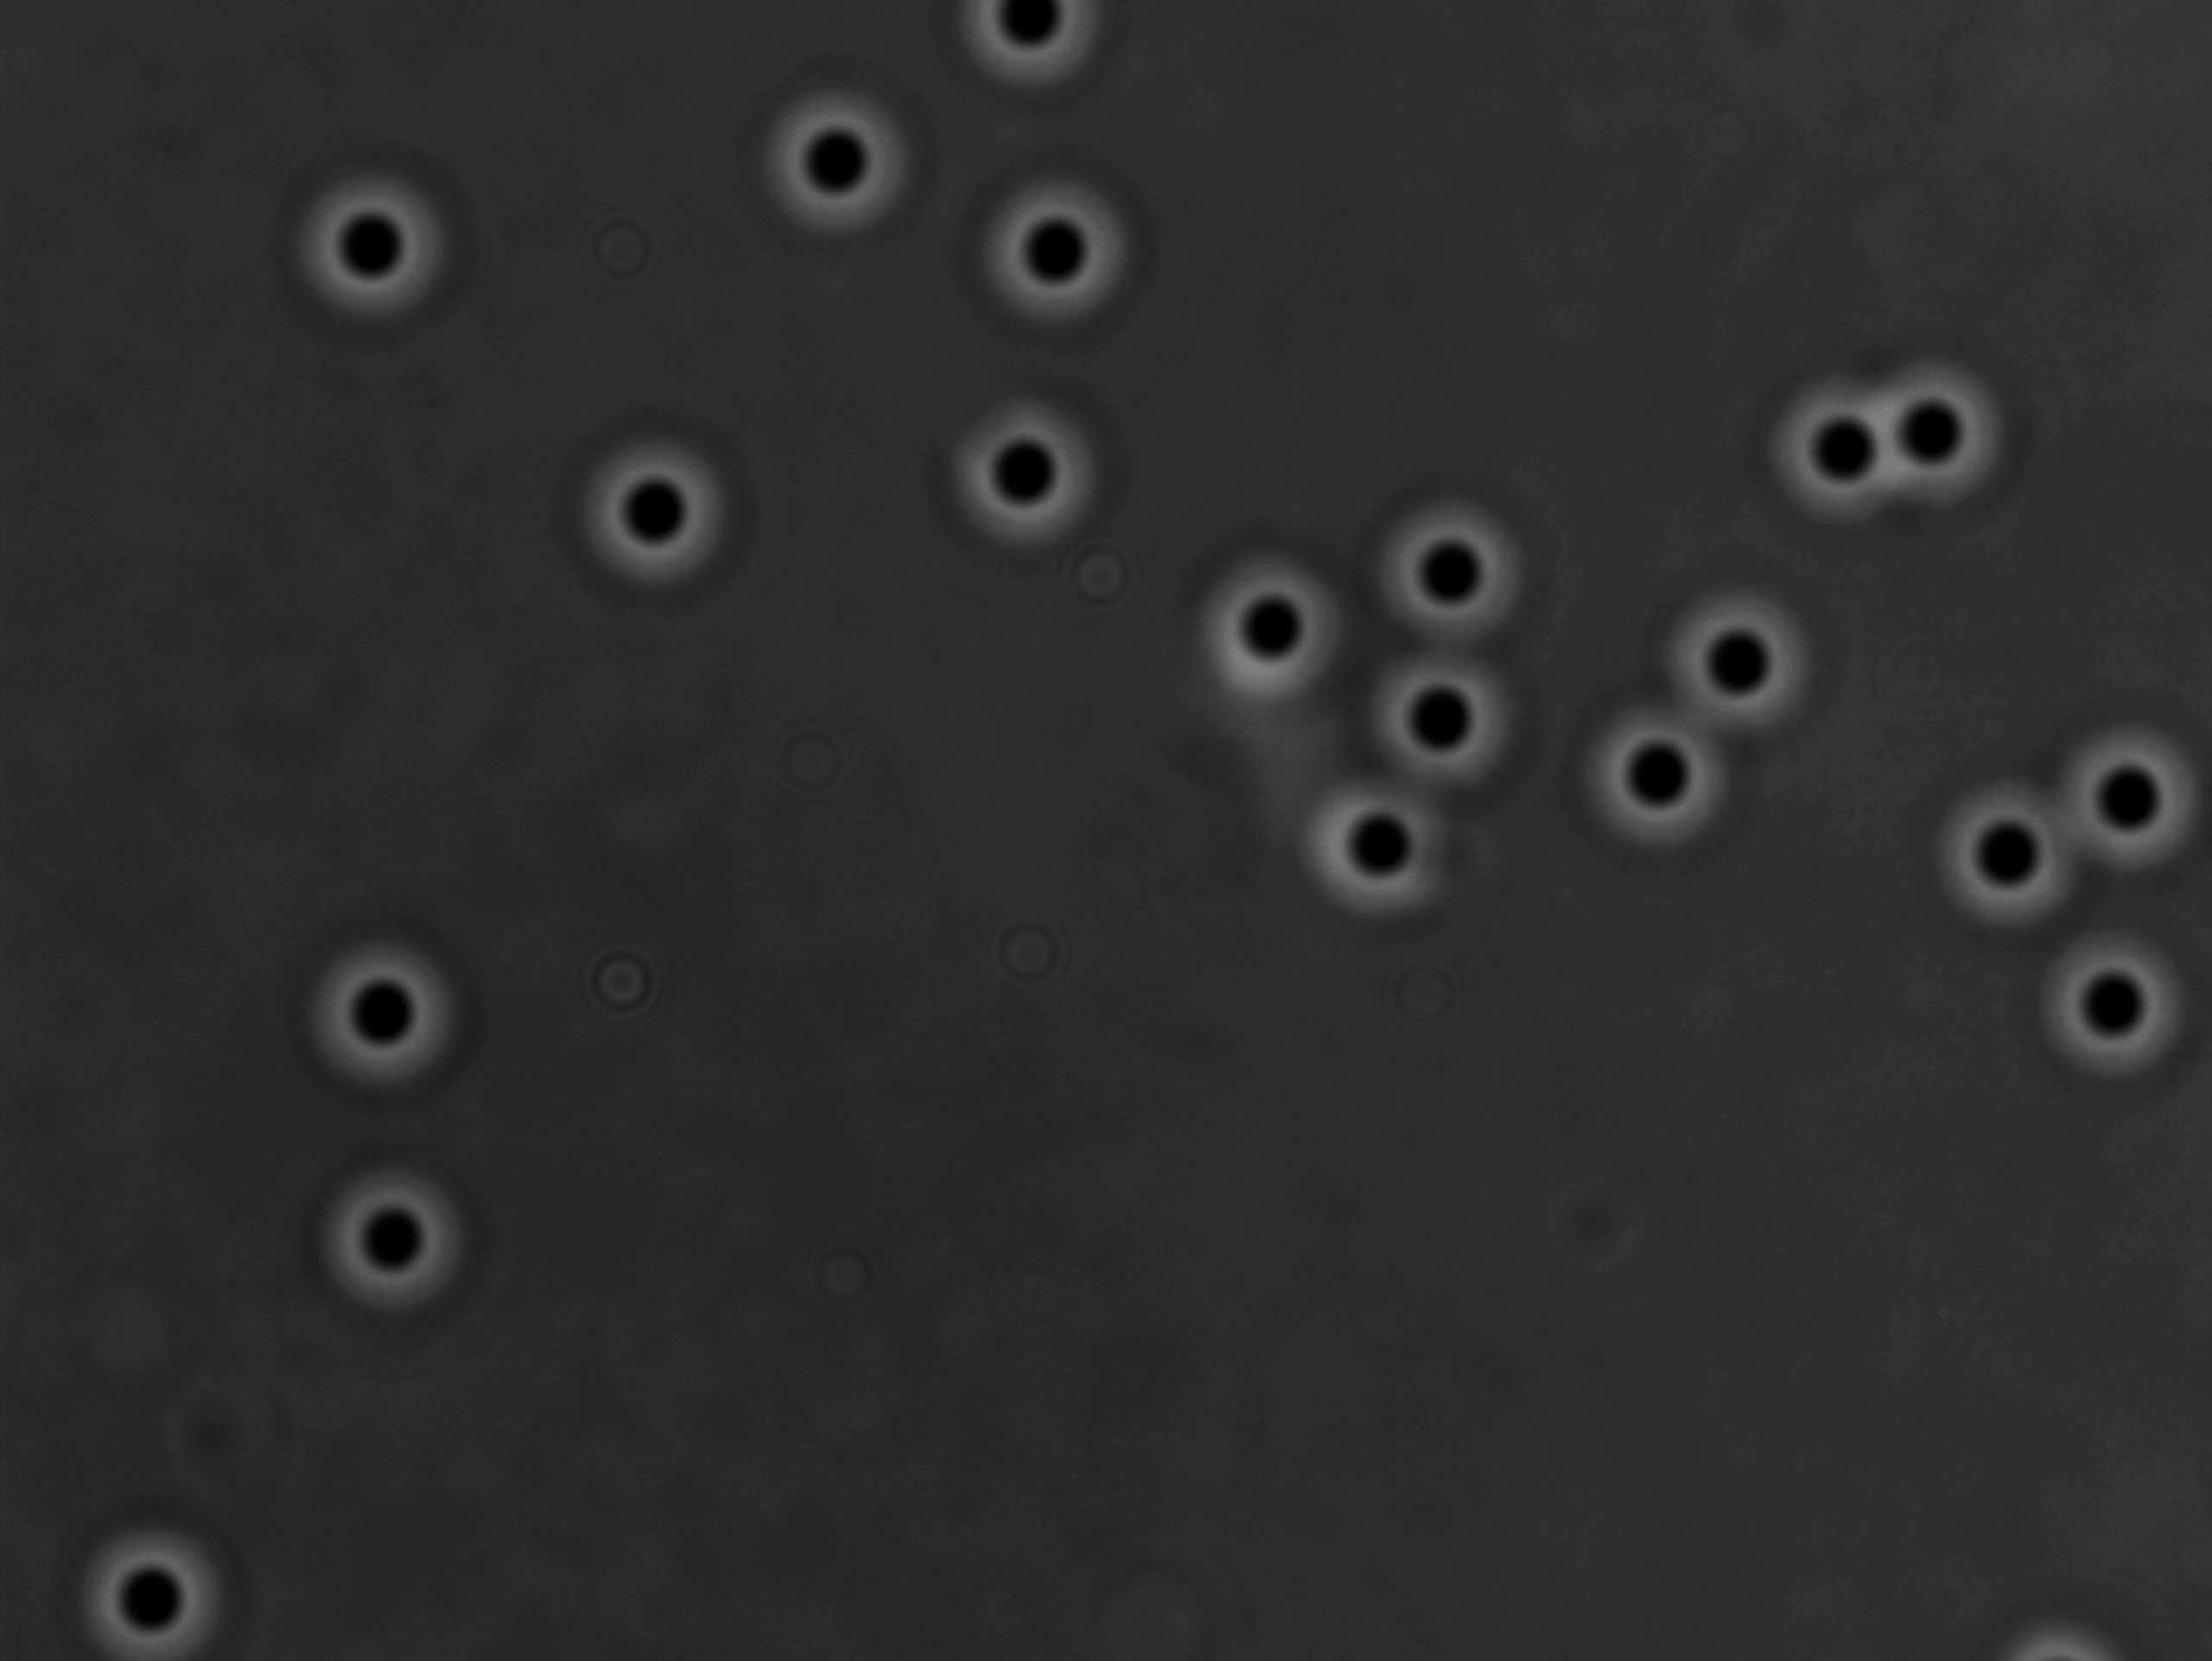depth:-80: (2008, 906, 2212, 1097), (1905, 755, 2097, 951), (937, 379, 1127, 567), (1744, 351, 1931, 541), (563, 420, 748, 605), (1570, 675, 1748, 865), (952, 164, 1139, 344), (283, 157, 476, 328), (293, 932, 483, 1104), (1348, 616, 1525, 801), (2041, 698, 2212, 886), (1849, 335, 2029, 511), (1186, 546, 1369, 717), (1277, 764, 1462, 933), (291, 1150, 473, 1314), (1645, 576, 1818, 747), (754, 89, 930, 255), (1361, 494, 1537, 658), (58, 1516, 239, 1661)
